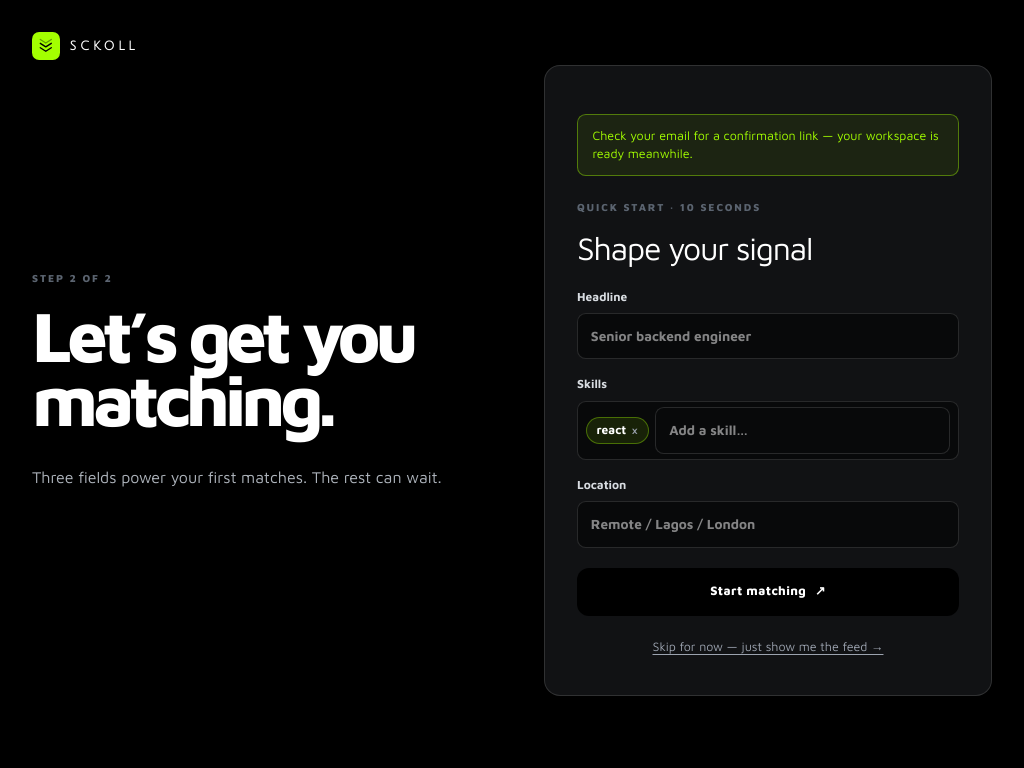
Test: ProfileSetupForm (talent quick start) › keeps the user on the form when saving fails
Check: the field with placeholder "Senior backend engineer" is shown, box [577, 313, 959, 359]
Click the button "Start matching ↗" at point(768, 592), box [577, 568, 959, 616]
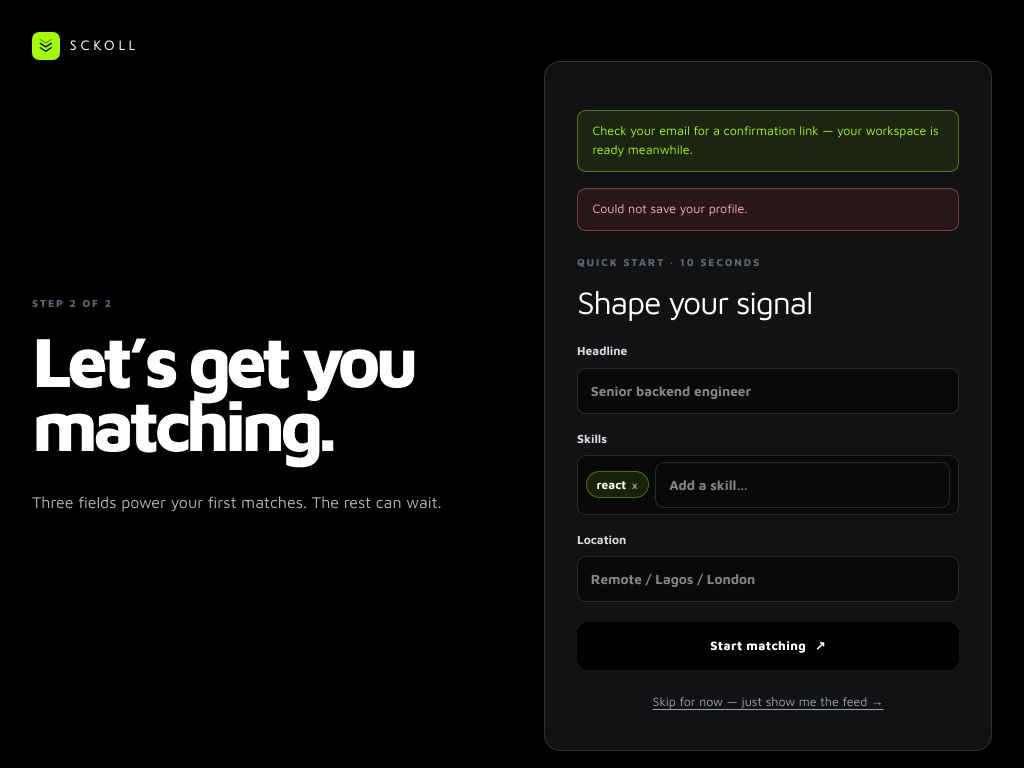
Check: the text "Could not save your profile." is shown, box [577, 188, 959, 231]
